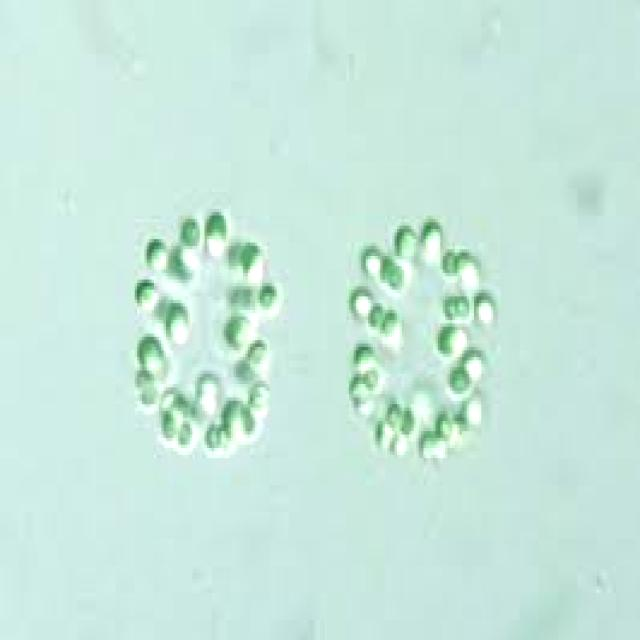Blue Green Algae: (221, 310, 253, 350), (137, 333, 164, 378), (221, 398, 248, 442), (202, 209, 229, 249), (236, 239, 264, 276), (142, 239, 171, 273), (178, 212, 202, 253), (166, 303, 190, 344), (353, 343, 382, 374), (421, 216, 443, 256), (248, 381, 269, 421), (135, 276, 159, 310), (392, 226, 419, 256), (356, 364, 385, 391), (258, 276, 279, 313), (378, 252, 397, 290), (159, 408, 178, 444), (440, 249, 460, 280), (346, 374, 366, 404), (245, 340, 267, 367), (436, 408, 454, 441), (176, 418, 195, 448), (438, 293, 457, 323), (450, 364, 469, 394), (382, 310, 400, 340), (366, 300, 382, 333), (385, 397, 402, 428), (204, 418, 219, 451), (373, 418, 392, 444), (399, 408, 416, 434)
